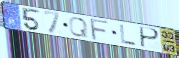5: (20, 7, 42, 32)
7: (43, 9, 62, 36)
F: (90, 18, 111, 42)
L: (119, 24, 138, 47)
P: (140, 26, 161, 50)
Q: (68, 17, 90, 39)
